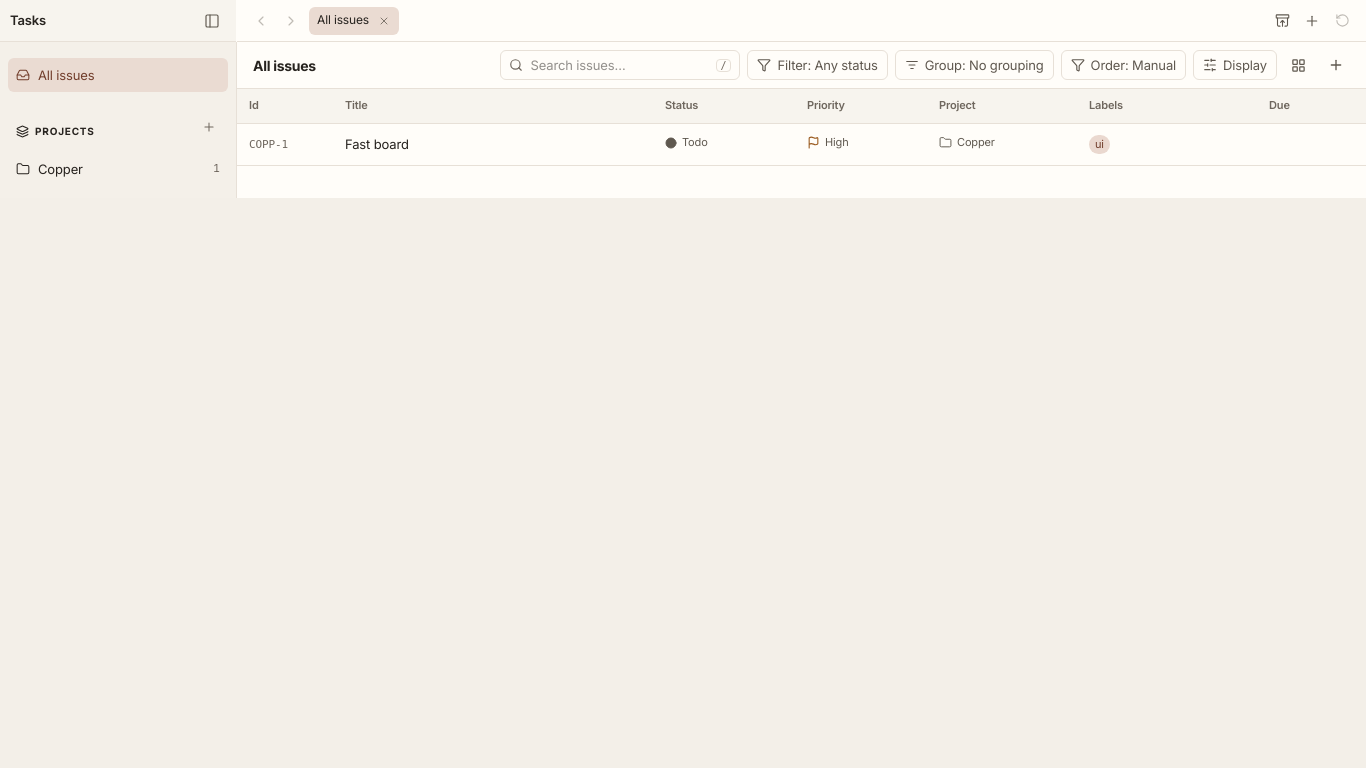
Test case: TasksWorkspace › uses the same issue context menu from list rows
Right-click the row "COPP-1 Fast board Todo High Copper ui" at (802,144), box [237,123,1365,165]
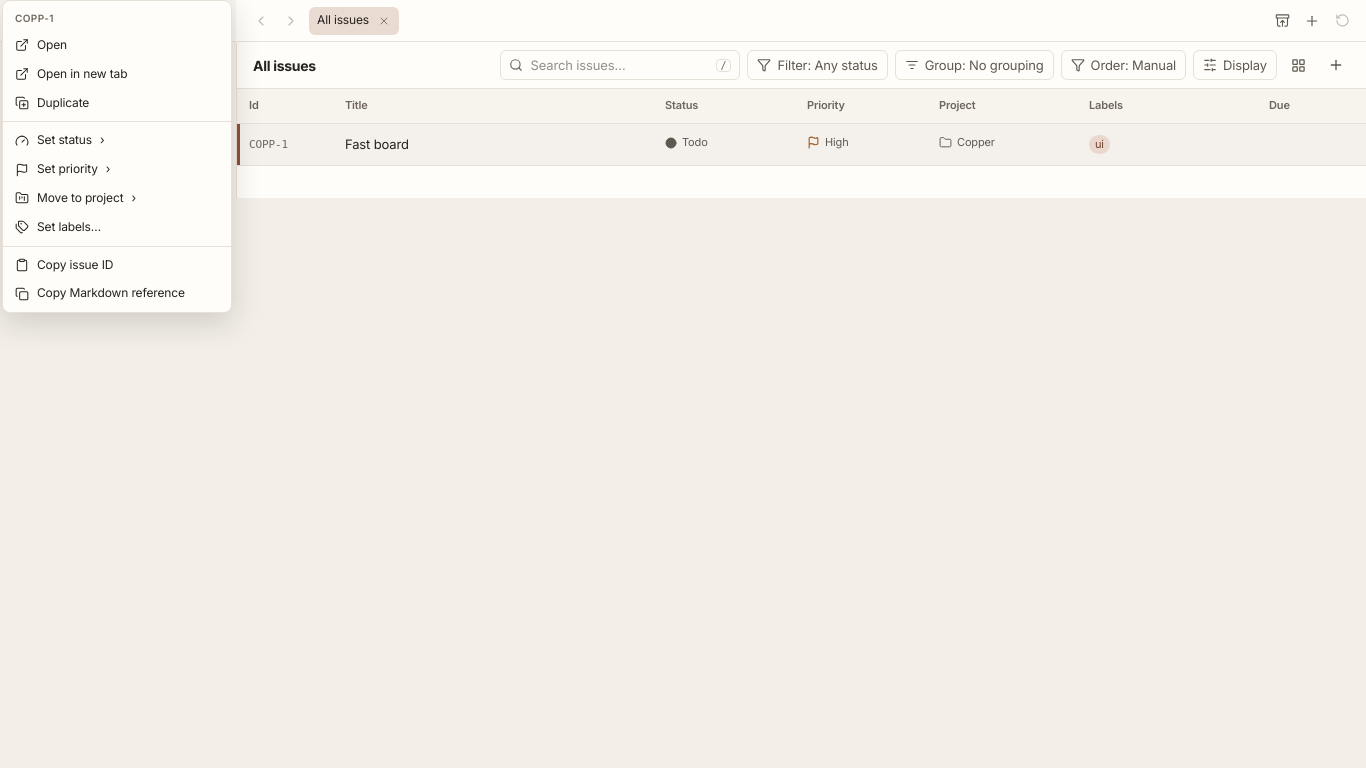
Now the menu item "Copy issue ID" is shown, box [15,257,113,272]
